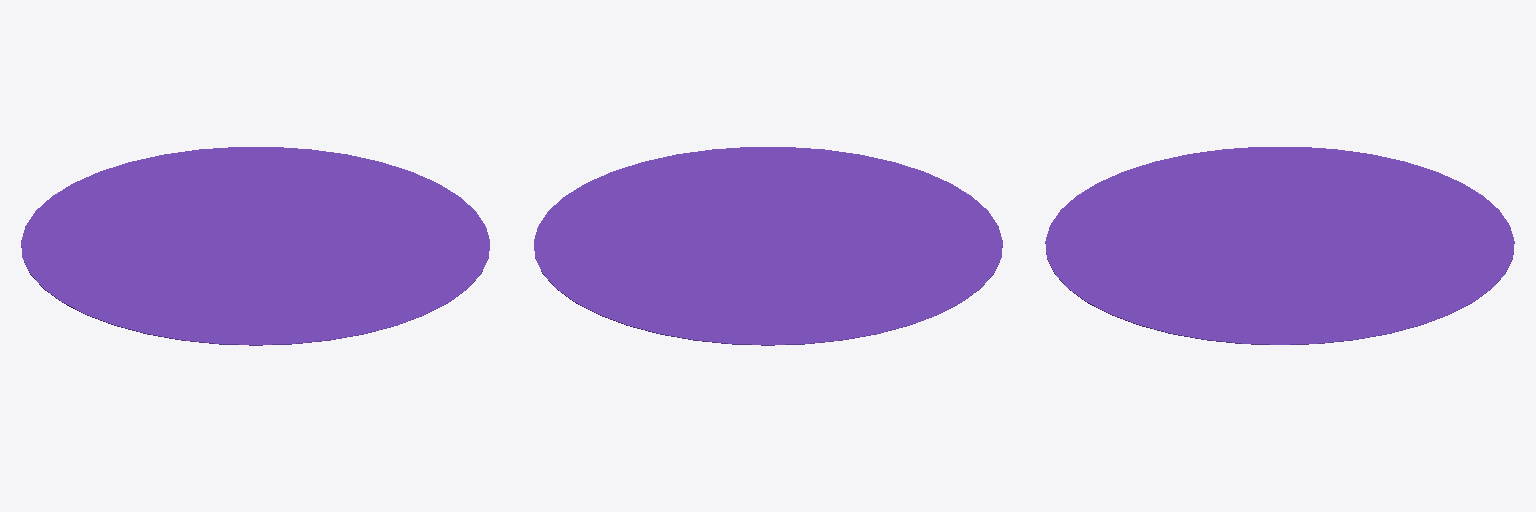
Rendered from light3.obj.
3 views of the same model, side by side, from view 1: azimuth 30°, elevation 25°; view 2: azimuth 150°, elevation 25°; view 3: azimuth 270°, elevation 25° (orthographic).
Parts seen in each view (by area): view 1: Cylinder13; view 2: Cylinder13; view 3: Cylinder13.
Part boxes in pixels (x1,y1,x2,y2): Cylinder13: (21,147,489,345); Cylinder13: (534,147,1002,345); Cylinder13: (1045,147,1514,344).
Bounding box in the file's own units: 14584 × 705 × 14596.